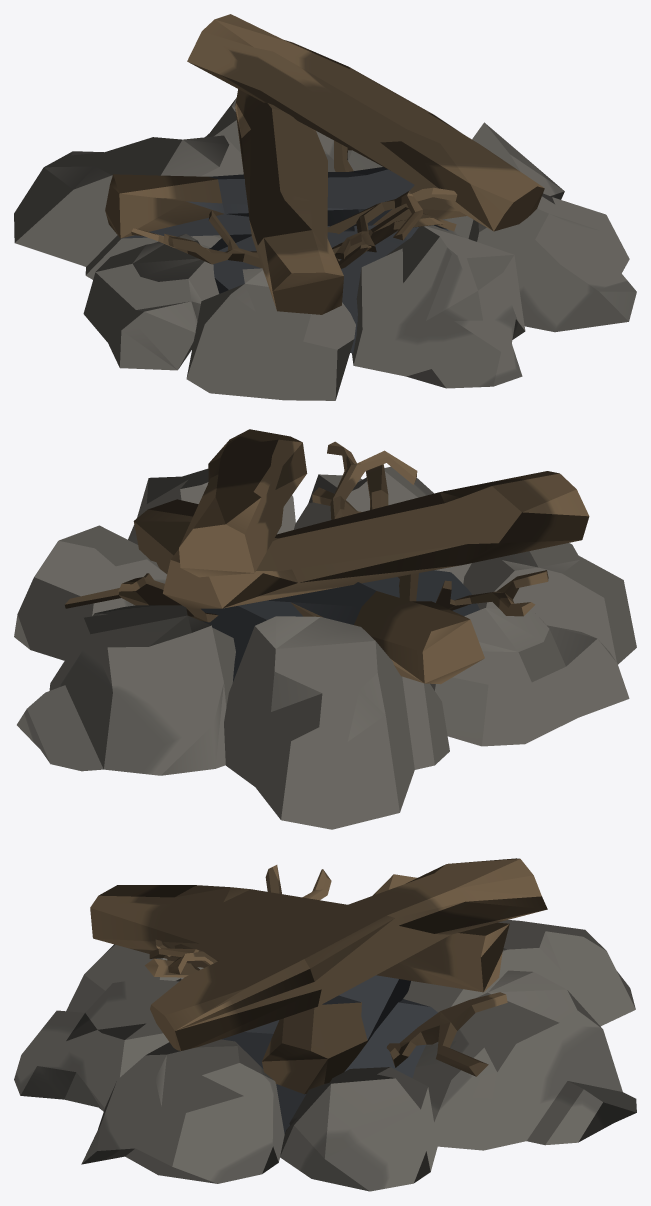
Rendered from pass_campfire.gltf.
The picture shows the model from 3 angles, top to bottom: view 1: azimuth 30°, elevation 25°; view 2: azimuth 150°, elevation 25°; view 3: azimuth 270°, elevation 25°; orthographic projection. The views are drawn at different scales.
Parts seen in each view (by area): view 1: pass_campfire; view 2: pass_campfire; view 3: pass_campfire.
Part boxes in pixels (x1,y1,x2,y2): pass_campfire: (14,14,636,400); pass_campfire: (14,429,636,829); pass_campfire: (14,858,636,1191).
Size of the model in its own units: 0.9 by 0.3569 by 0.9714.
Materials: 1 (1 with a texture image).
